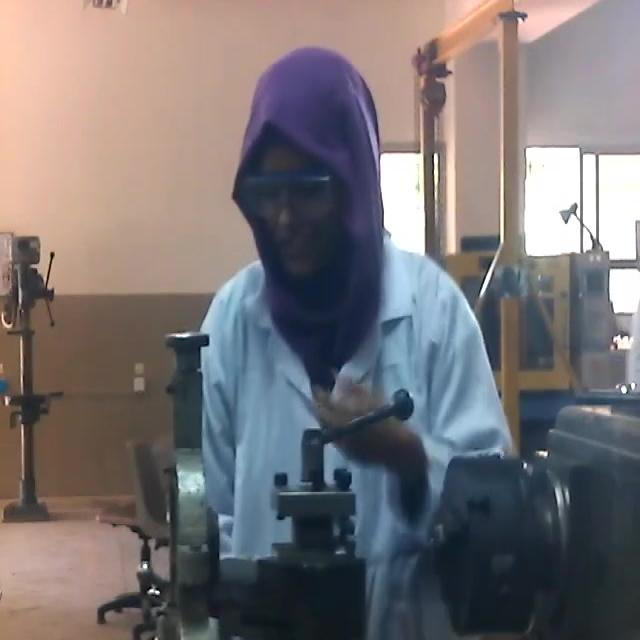googles: (239, 168, 336, 232)
labcoat: (203, 230, 516, 640)
